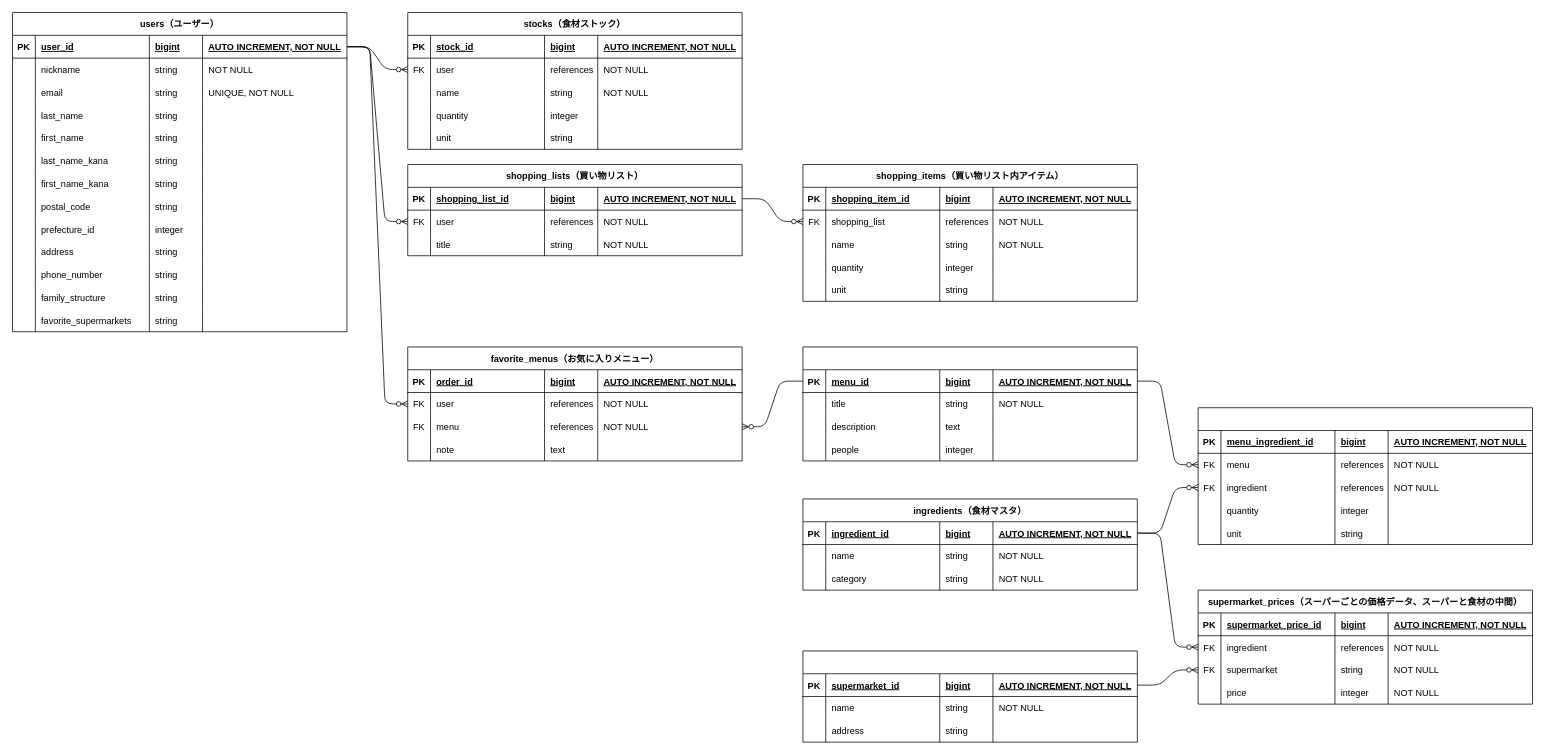
Image size: 1545x755. Some labels were removed from this diagram. Each missing label, with the box of its shape:
menu_ingredients（メニューと食材の中間）: (1197, 407, 1533, 545)
menus（AI提案・保存メニュー）: (802, 346, 1137, 461)
supermarkets（スーパー情報）: (802, 650, 1137, 742)
